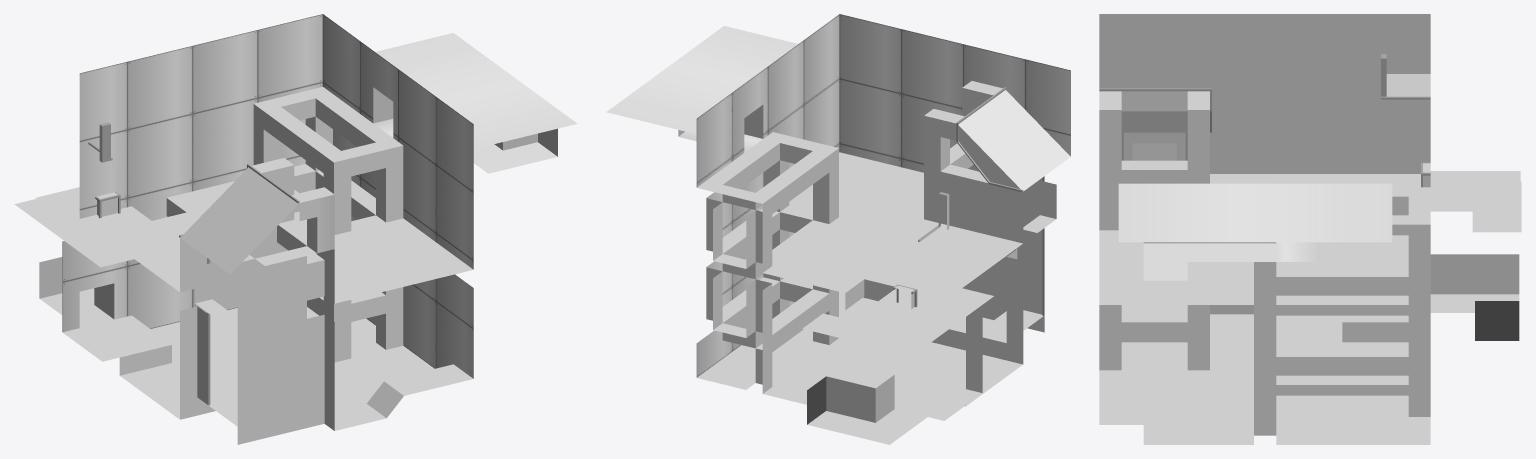
Rendered from Area6.gltf.
3 renders of one model, left to right at view 1: azimuth 30°, elevation 25°; view 2: azimuth 150°, elevation 25°; view 3: azimuth 270°, elevation 25°, orthographic. The views are drawn at different scales.
Visible parts, largest first — view 1: Grid.001; view 2: Grid.001; view 3: Grid.001.
Boxes of the visible parts, <box> form: Grid.001: <box>14,14,577,444</box>; Grid.001: <box>606,14,1070,444</box>; Grid.001: <box>1099,14,1521,444</box>.
Bounding box in the file's own units: 43.8 × 30 × 38.21.
6 materials, 1 textured.
